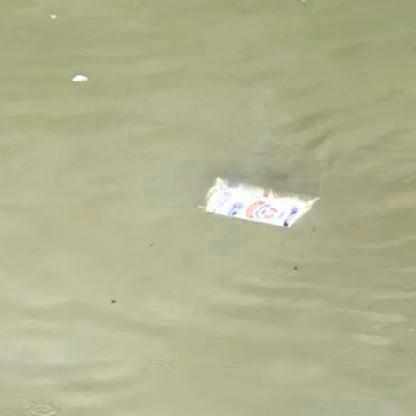Trash: (202, 168, 321, 235)
